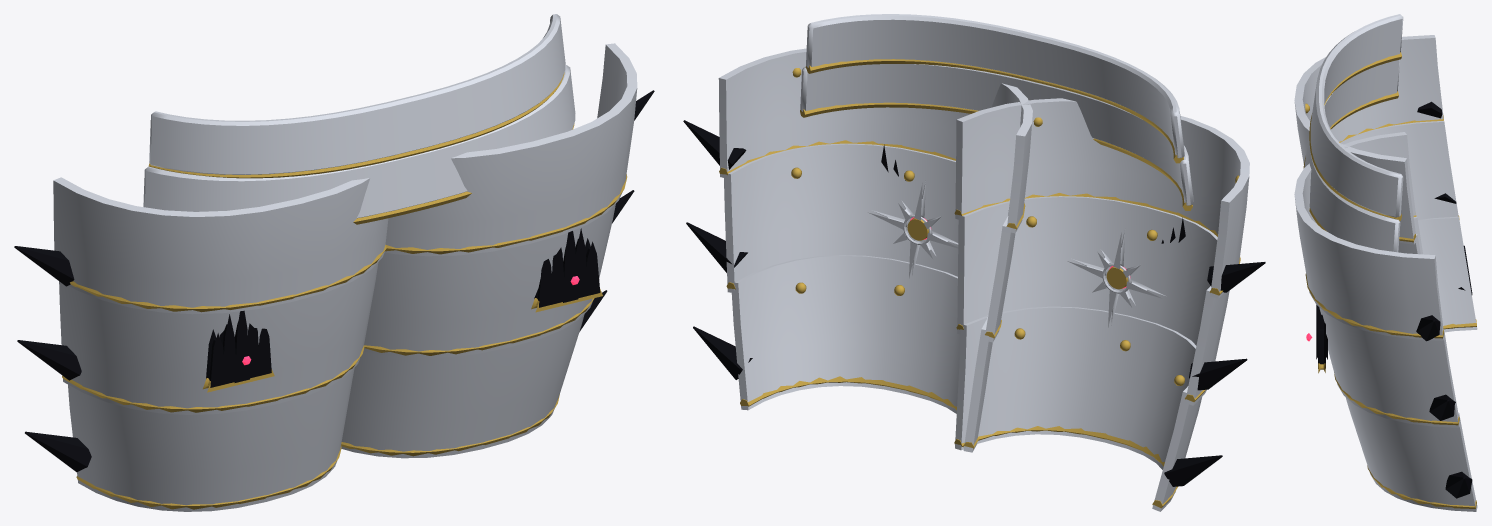
File: esc_worldsend_bulwark_leggings.glb
3 renders of one model, left to right at view 1: azimuth 30°, elevation 25°; view 2: azimuth 150°, elevation 25°; view 3: azimuth 270°, elevation 25°, orthographic. The views are drawn at different scales.
Parts seen in each view (by area): view 1: AT_thigh_R, AT_thigh_L, esc_worldsend_bulwark_leggings; view 2: AT_thigh_R, AT_thigh_L, esc_worldsend_bulwark_leggings; view 3: AT_thigh_L, AT_thigh_R, esc_worldsend_bulwark_leggings.
Part boxes in pixels (bbox=[...]): AT_thigh_R: bbox=[14, 177, 388, 511]; AT_thigh_L: bbox=[341, 43, 654, 458]; esc_worldsend_bulwark_leggings: bbox=[143, 14, 575, 224]; AT_thigh_R: bbox=[954, 98, 1265, 511]; AT_thigh_L: bbox=[683, 48, 1032, 452]; esc_worldsend_bulwark_leggings: bbox=[800, 14, 1193, 327]; AT_thigh_L: bbox=[1294, 132, 1477, 511]; AT_thigh_R: bbox=[1294, 35, 1477, 332]; esc_worldsend_bulwark_leggings: bbox=[1303, 14, 1403, 252].
Bounding box in the file's own units: 0.5844 × 0.3481 × 0.177.
